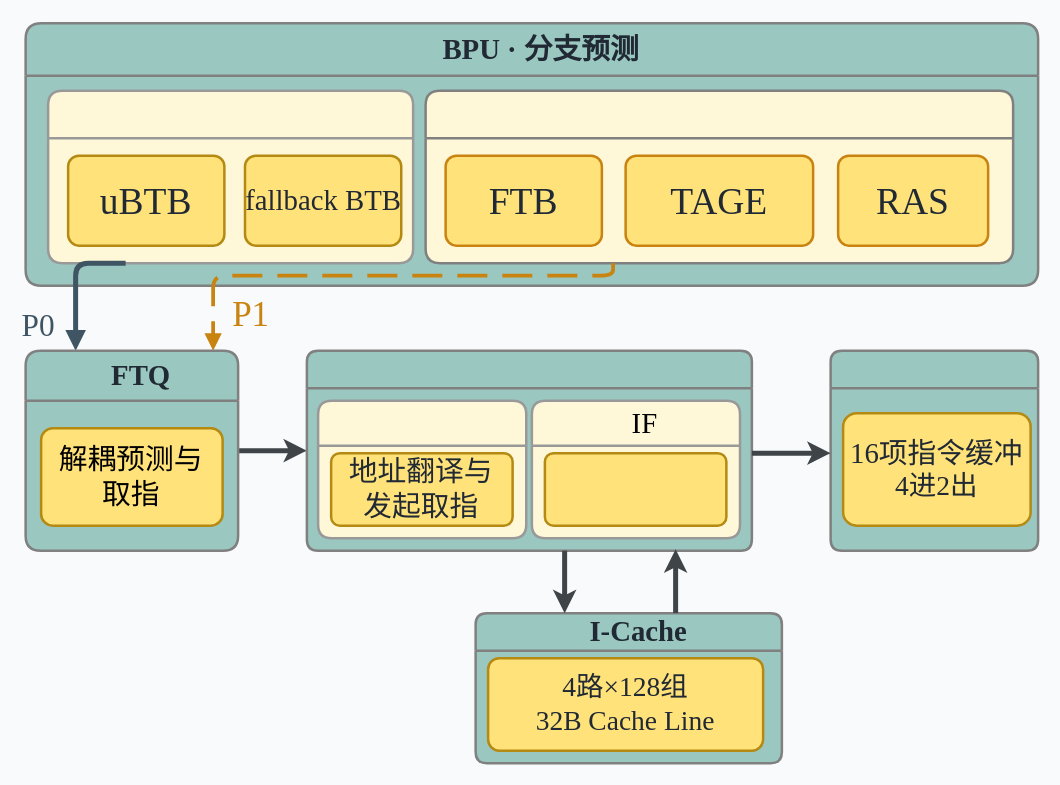
The diagram is 1060 pixels wide and 785 high, and some of its shapes have lost their labels. The shapes that lost their labels are listed below. From the top down, each one's box as (x1, y1, x2, y2) in pixels, then its label:
(46, 89, 414, 264): P0 · 同拍快速预测
(424, 89, 1014, 264): P1 · 次拍主预测 + 校正
(316, 399, 527, 539): PRE
(305, 349, 752, 551): IFU
(829, 349, 1039, 551): Inst Buffer
(543, 451, 727, 526): 对齐切割与预译码
